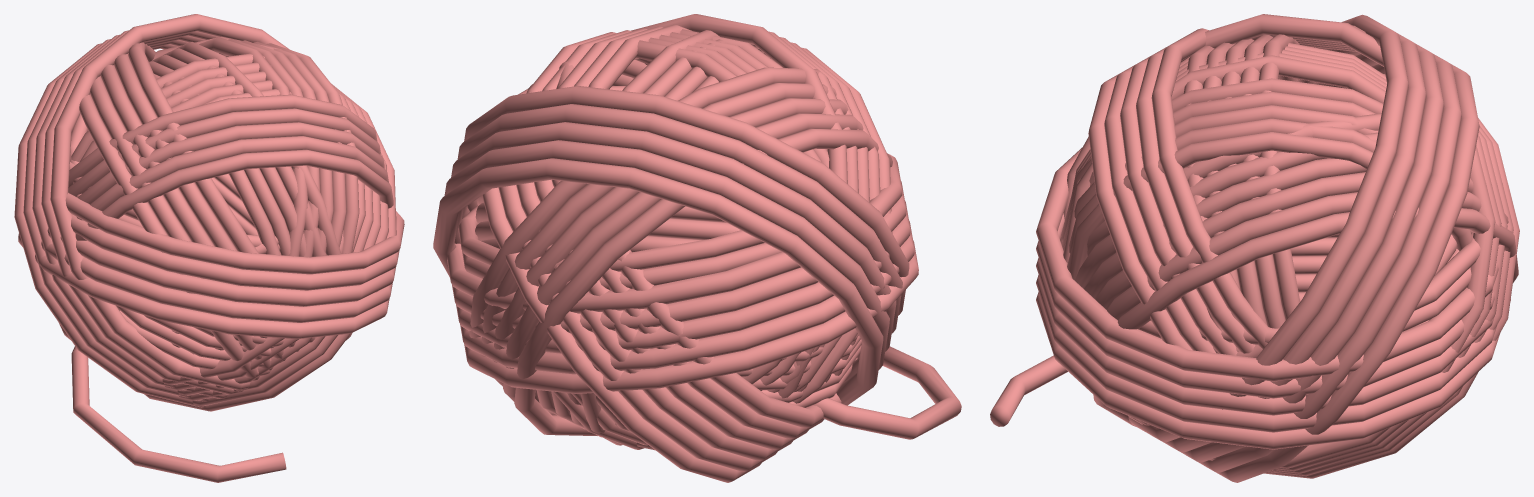
File: skein.fbx
3 renders of one model, left to right at view 1: azimuth 30°, elevation 25°; view 2: azimuth 150°, elevation 25°; view 3: azimuth 270°, elevation 25°, orthographic. The views are drawn at different scales.
Parts seen in each view (by area): view 1: Sphere.013; view 2: Sphere.013; view 3: Sphere.013.
Part boxes in pixels (box(x1,y1,x2,y2)): Sphere.013: box(14, 14, 404, 482); Sphere.013: box(433, 14, 961, 482); Sphere.013: box(990, 14, 1519, 482).
Bounding box in the file's own units: 1.05 × 0.9801 × 1.15.
